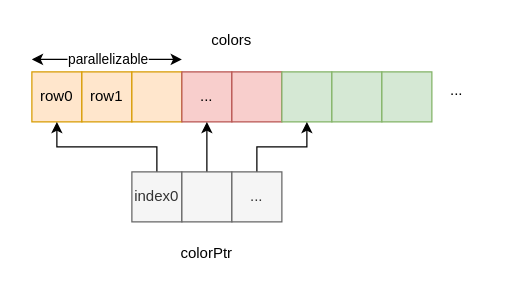
The diagram is 516 pixels wide and 293 high, and some of its shapes have lost their labels. Each missing label, with the centre of its shape:
"index1" belongs at (x=206, y=196).
"row2" belongs at (x=156, y=96).
